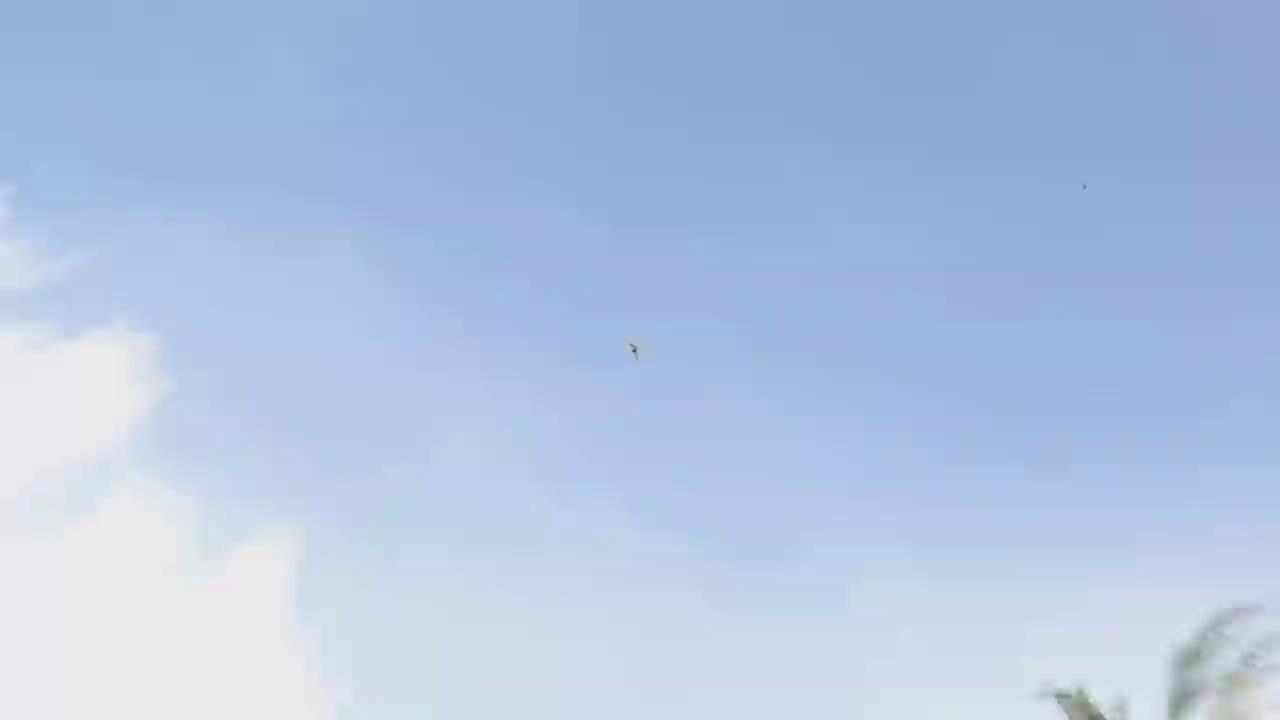drone: (616, 338, 646, 363)
